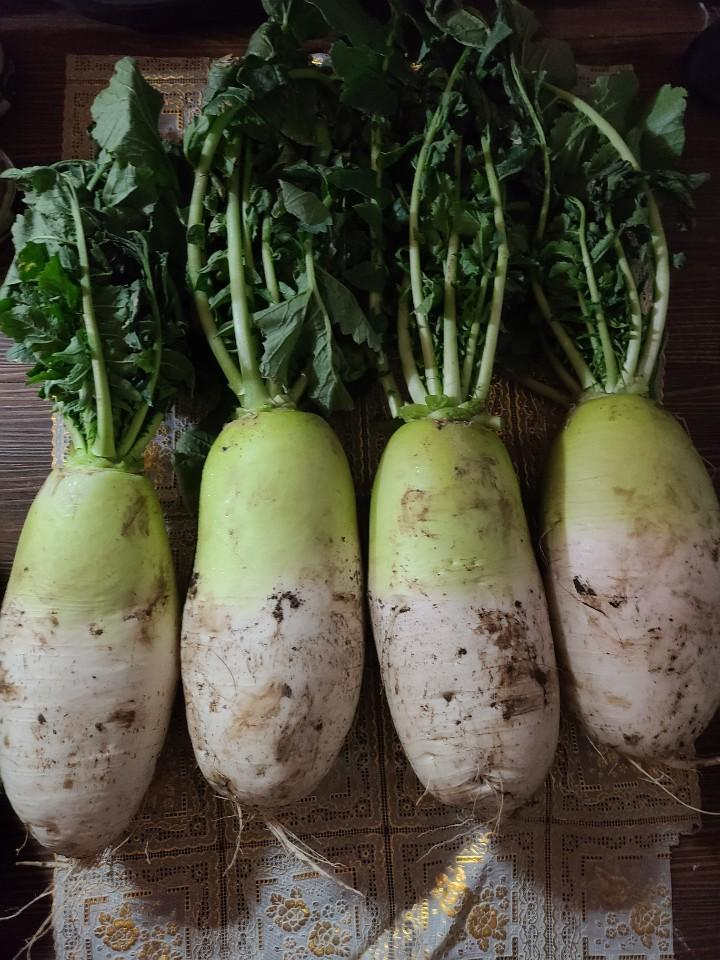radish: (412, 642, 607, 960), (219, 642, 390, 960), (37, 688, 187, 960), (628, 616, 720, 960)
